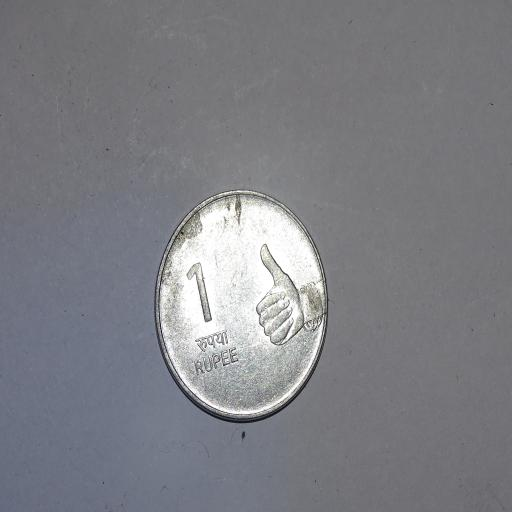rupee1: (152, 186, 328, 425)
